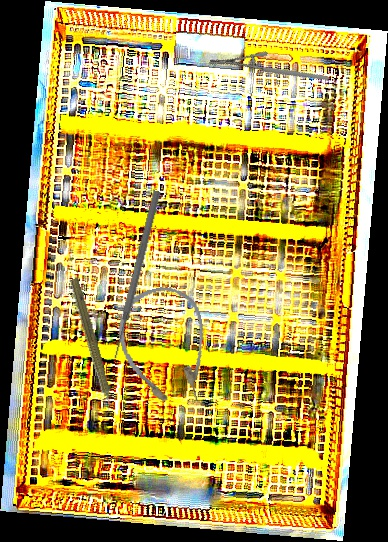Cannula: (110, 280, 220, 416)
Handpiece: (64, 276, 120, 419)
Needle Holder: (207, 24, 331, 117)
Pusher: (109, 189, 163, 360)
